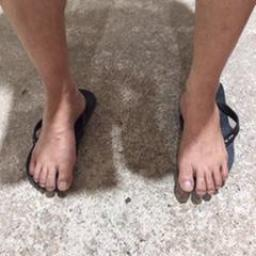Dorsal View -Both Feet-: (20, 62, 234, 214)
